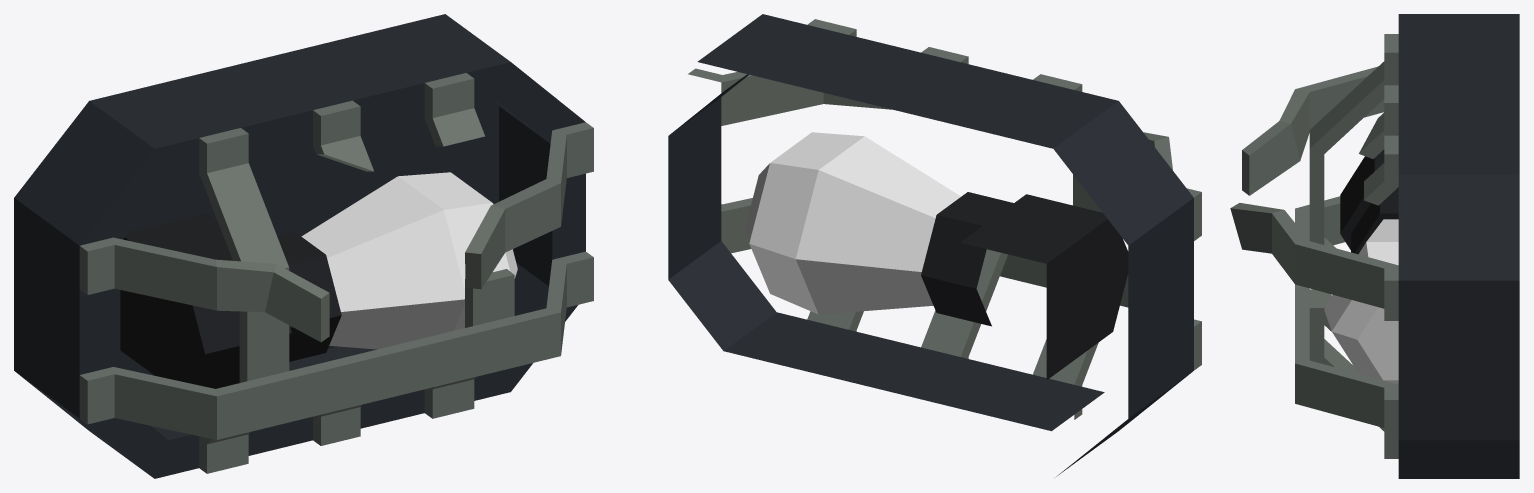
The model's file is SM_Light_C.gltf.
The picture shows the model from 3 angles, left to right: view 1: azimuth 30°, elevation 25°; view 2: azimuth 150°, elevation 25°; view 3: azimuth 270°, elevation 25°; orthographic projection. The views are drawn at different scales.
Visible parts, largest first — view 1: SM_Light_C; view 2: SM_Light_C; view 3: SM_Light_C.
Boxes of the visible parts, left/top/right/bottom form: SM_Light_C: left=14, top=14, right=593, bottom=478; SM_Light_C: left=668, top=14, right=1201, bottom=476; SM_Light_C: left=1230, top=14, right=1519, bottom=478.
Size of the model in its own units: 0.3444 by 0.2146 by 0.1848.
Materials: 2 (1 with a texture image).
